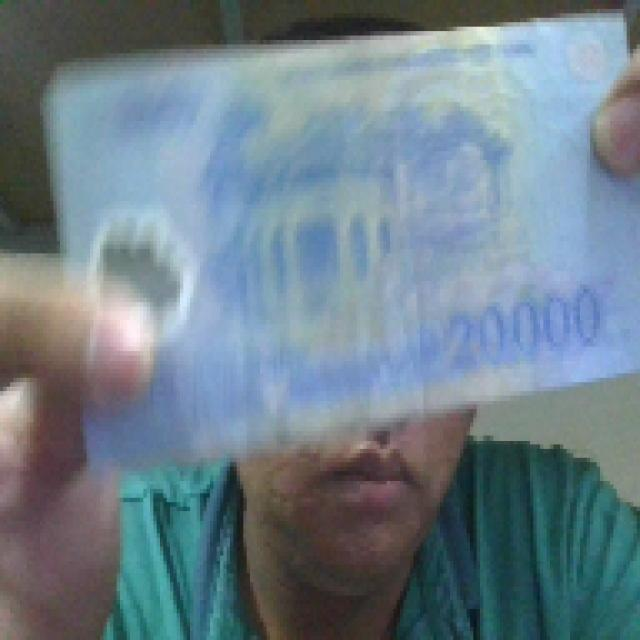20 000 VND: (36, 5, 636, 471)
